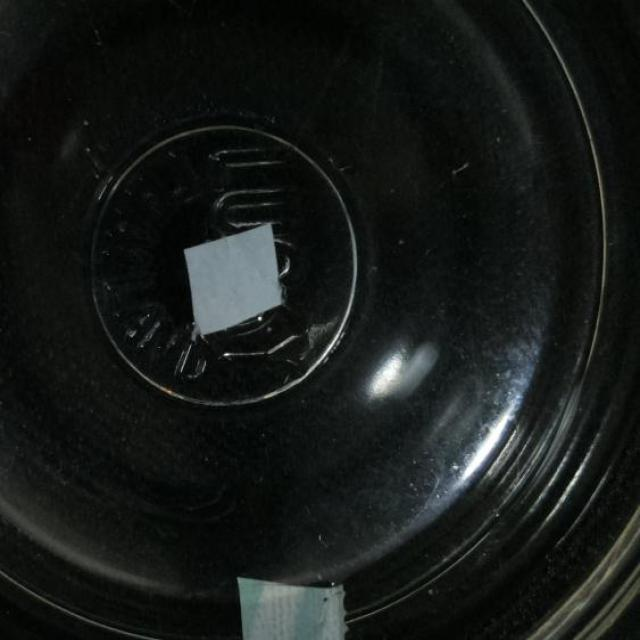fiber: (182, 221, 283, 340), (234, 572, 347, 640)
